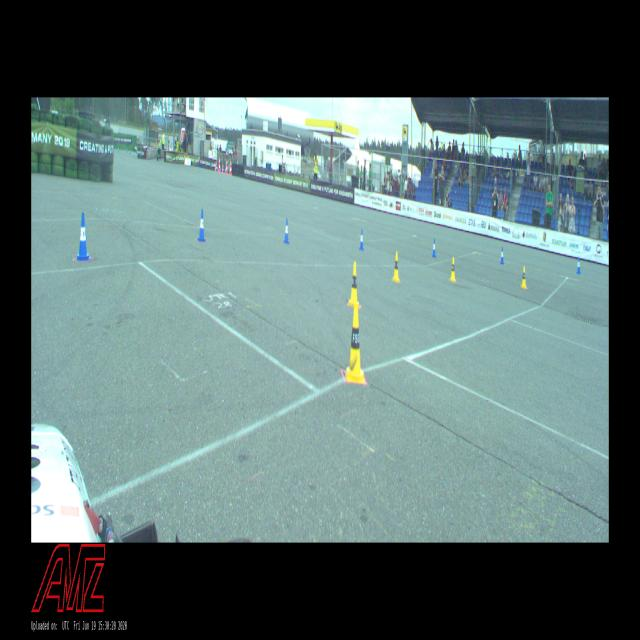blue_cone: (76, 213, 92, 261), (198, 210, 205, 242), (284, 218, 289, 244), (359, 229, 364, 250), (576, 257, 581, 274), (432, 238, 436, 256), (500, 247, 504, 264)
large_orange_cone: (218, 157, 220, 172), (214, 161, 217, 171), (230, 160, 232, 175), (222, 163, 224, 173), (226, 159, 227, 174)
yellow_cone: (346, 304, 364, 384), (348, 262, 360, 308), (392, 252, 400, 282), (450, 257, 456, 282), (520, 266, 526, 289)
